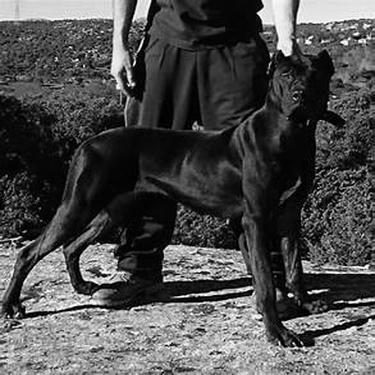dog: (7, 42, 349, 359)
